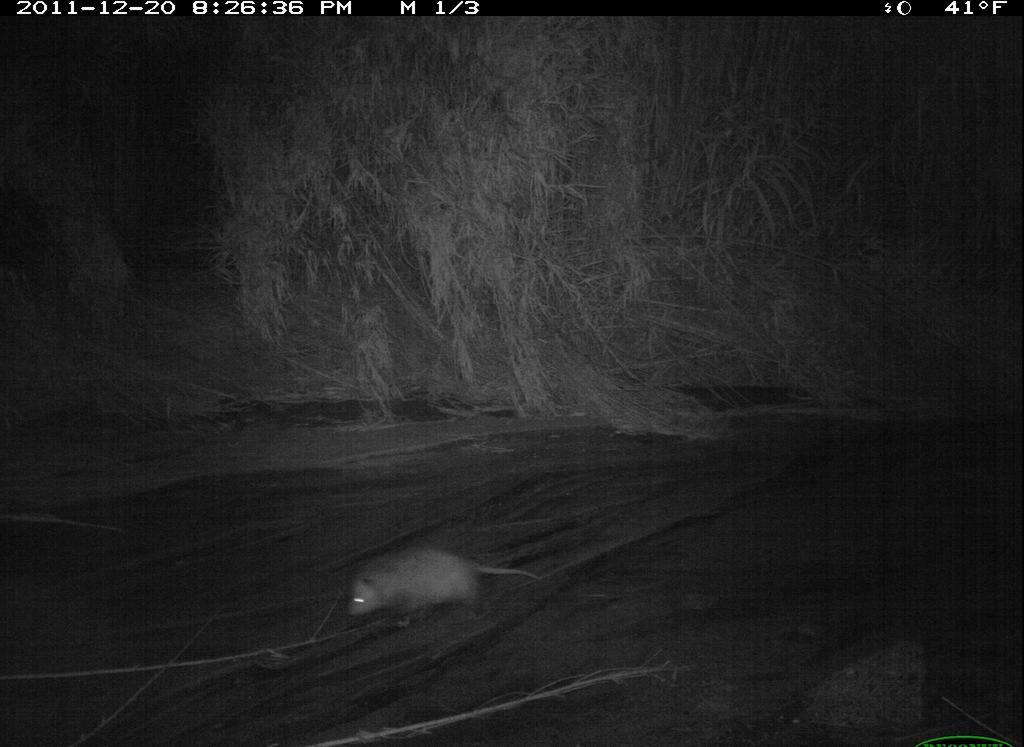opossum: (332, 537, 552, 628)
